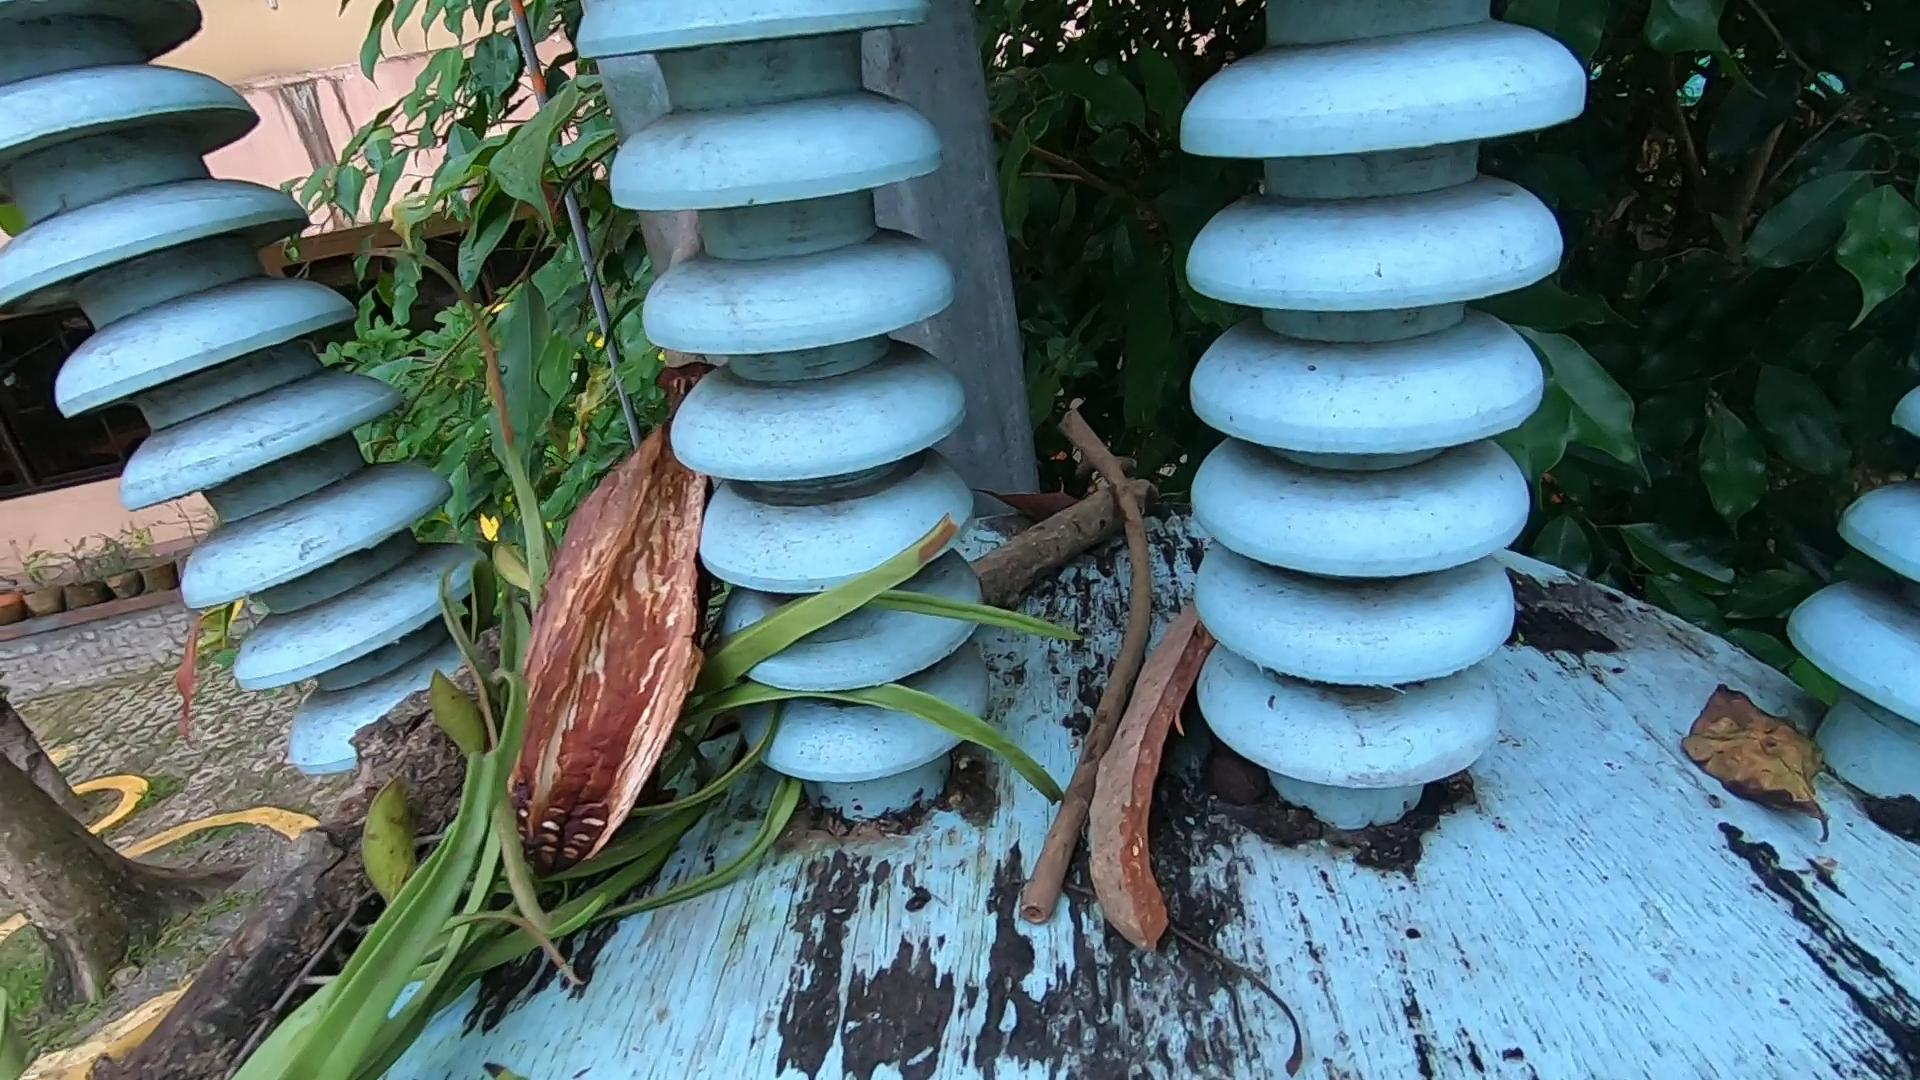branch with leaves: (69, 207, 1087, 1080)
leaf: (1677, 682, 1844, 840)
mahogany fruit: (554, 357, 746, 855), (1054, 559, 1222, 961)
tree branch: (1025, 386, 1156, 932), (967, 459, 1151, 601)
